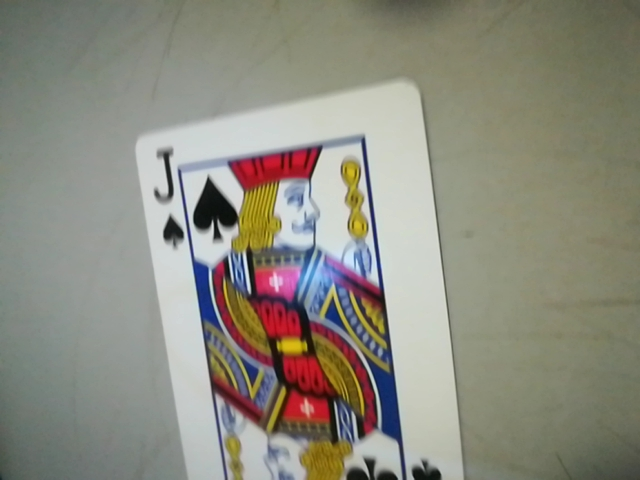ht j: (138, 138, 189, 253)
